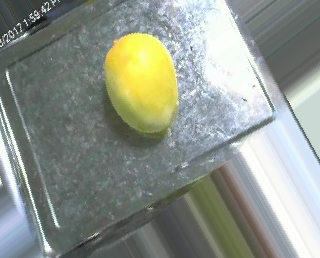Mango: (92, 31, 189, 138)
